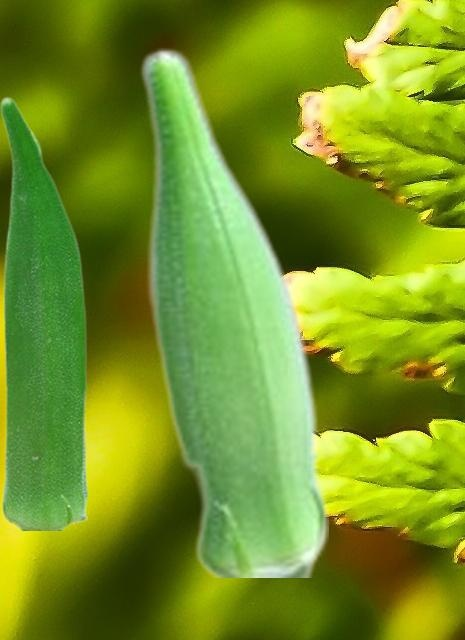okra: (138, 47, 327, 576), (0, 96, 86, 529)
